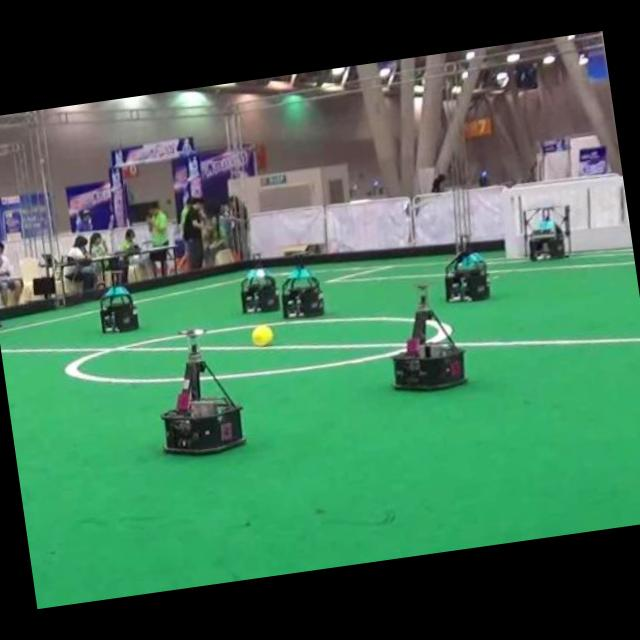ball: (251, 325, 273, 346)
robot: (162, 329, 245, 453), (394, 285, 465, 389), (445, 241, 490, 300), (523, 206, 572, 259), (281, 265, 323, 318), (100, 285, 138, 333), (241, 268, 278, 313)
